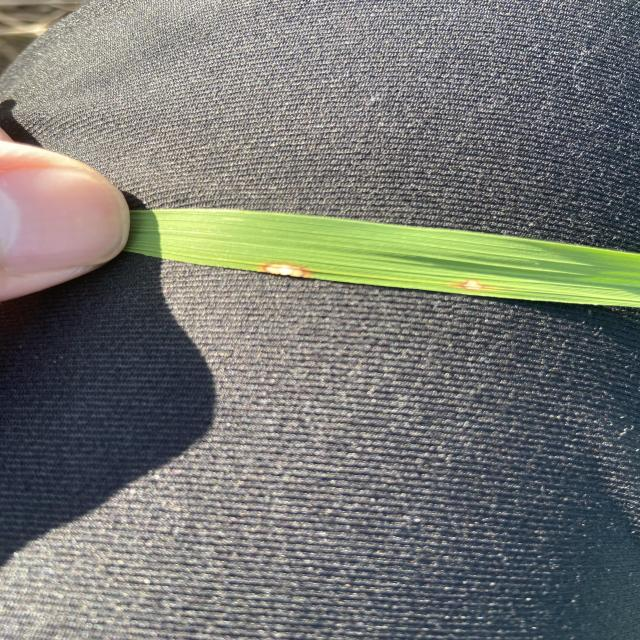Dao on: (259, 263, 310, 278), (462, 280, 485, 290)
